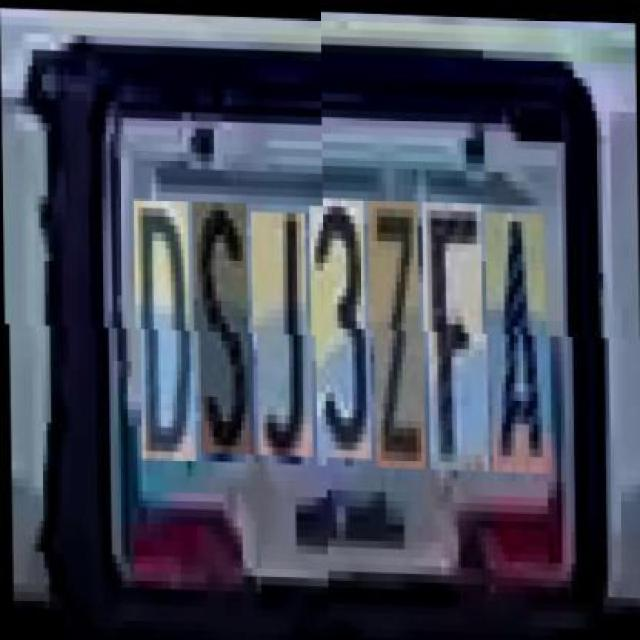3: (314, 203, 371, 465)
a: (488, 216, 552, 478)
d: (138, 198, 195, 459)
f: (426, 207, 488, 476)
j: (255, 210, 312, 455)
s: (196, 199, 253, 453)
z: (372, 204, 426, 473)
